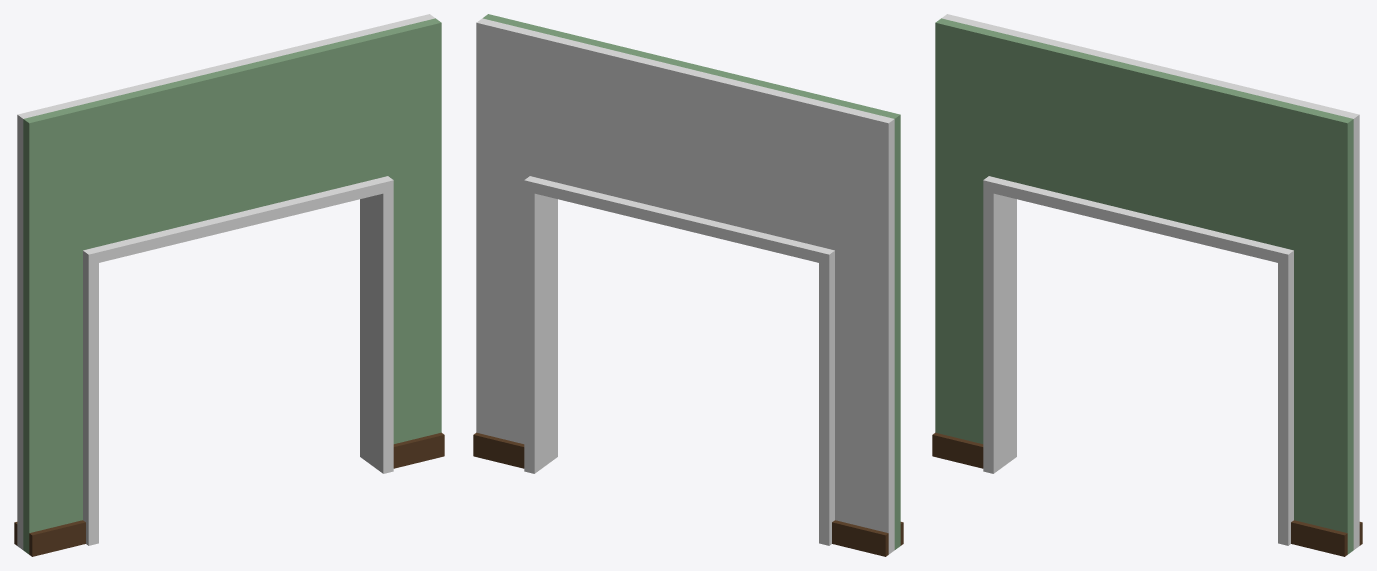
File: h_wall_1_doorFrame2_4_2_multi.fbx
3 views of the same model, side by side, from view 1: azimuth 30°, elevation 25°; view 2: azimuth 150°, elevation 25°; view 3: azimuth 330°, elevation 25° (orthographic).
Visible parts, largest first — view 1: Cube, DoorFrame; view 2: Cube, DoorFrame; view 3: Cube, DoorFrame.
Boxes of the visible parts, left/top/right/bottom form: Cube: left=14, top=14, right=444, bottom=556; DoorFrame: left=83, top=176, right=393, bottom=545; Cube: left=473, top=14, right=903, bottom=556; DoorFrame: left=524, top=176, right=834, bottom=545; Cube: left=932, top=14, right=1362, bottom=556; DoorFrame: left=983, top=176, right=1293, bottom=545.
Bounding box in the file's own units: 400 × 400 × 39.37.
